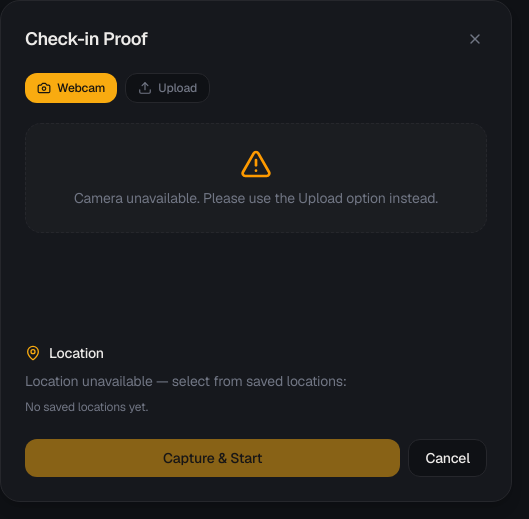
WorkspaceProofModal › switches to upload mode when Upload button is clicked
Click the button "Upload" at (168, 88), box [125, 73, 210, 103]
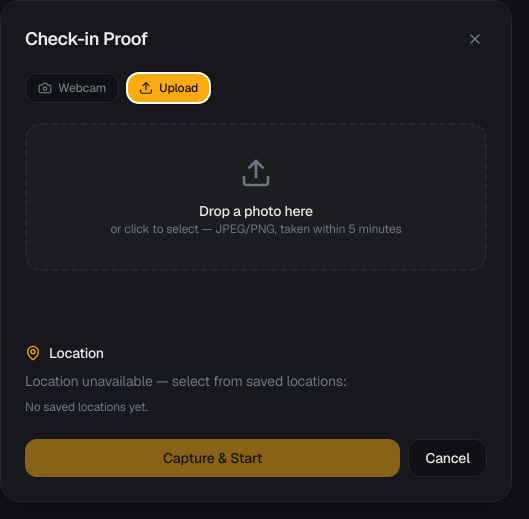
Now the text "Drop a photo here" is shown, box [199, 202, 313, 220]
